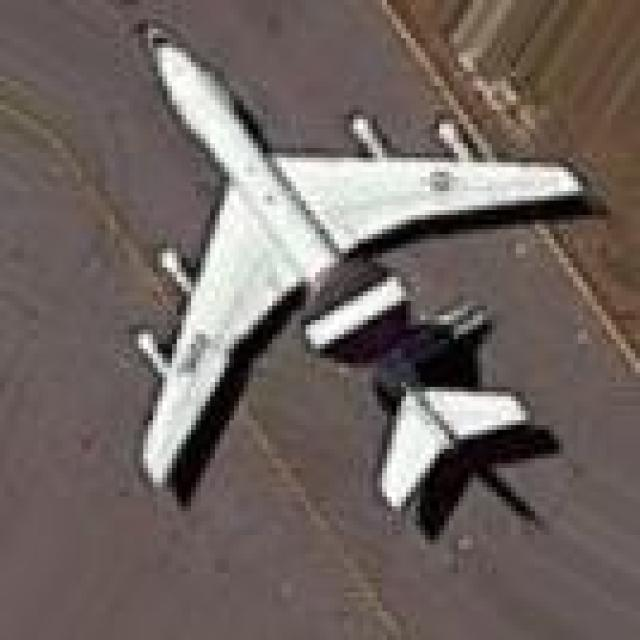E-3_TopDown: (124, 19, 602, 506)
